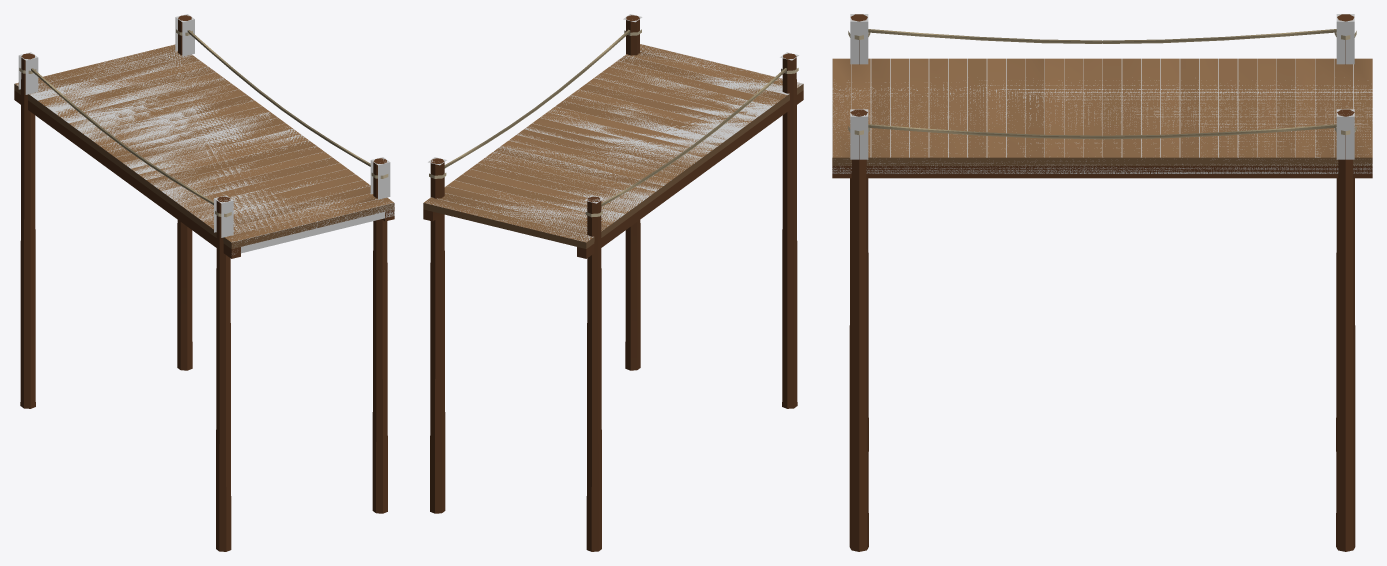
The model's file is dock_section.glb.
3 views of the same model, side by side, from view 1: azimuth 30°, elevation 25°; view 2: azimuth 150°, elevation 25°; view 3: azimuth 270°, elevation 25° (orthographic). The views are drawn at different scales.
Parts seen in each view (by area): view 1: dock_section, COL_0, COL_1, COL_4, COL_3, COL_2; view 2: dock_section, COL_0; view 3: dock_section, COL_0, COL_4, COL_1, COL_3, COL_2.
Boxes of the visible parts, x1,y1,x2,y2 form: dock_section: [14, 15, 394, 551]; COL_0: [15, 45, 394, 254]; COL_1: [18, 52, 38, 94]; COL_4: [370, 157, 390, 199]; COL_3: [214, 195, 233, 237]; COL_2: [175, 14, 194, 56]; dock_section: [423, 15, 803, 551]; COL_0: [426, 44, 802, 241]; dock_section: [832, 14, 1372, 551]; COL_0: [832, 58, 1372, 173]; COL_4: [850, 109, 868, 159]; COL_1: [1336, 14, 1354, 64]; COL_3: [850, 14, 868, 64]; COL_2: [1336, 109, 1354, 159].
Size of the model in its own units: 5.48 by 10.65 by 12.
